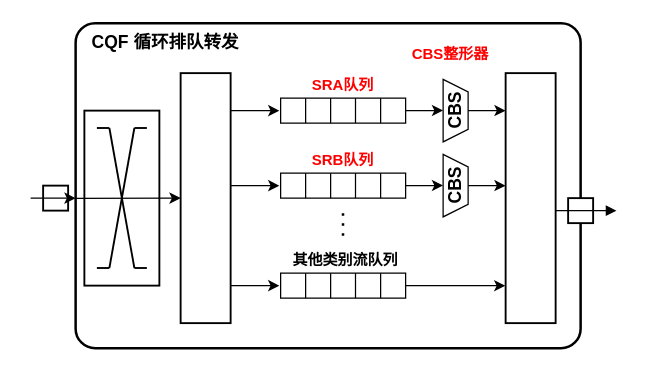
The diagram is 649 pixels wide and 370 high, and some of its shapes have lost their labels. The centre of each missing label's shape, as x and y in pixels:
Transmission Selection: (x=530, y=198)
流类别过滤器 (T raffic Class Filtering, TCF): (x=205, y=198)
